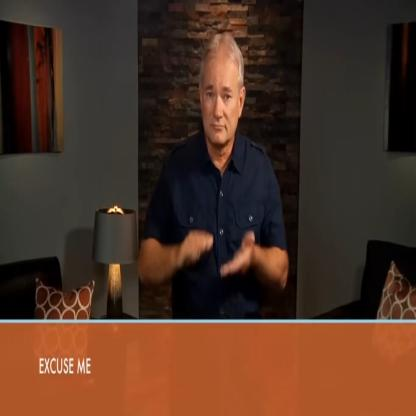ExcuseMe: (140, 32, 289, 316)
